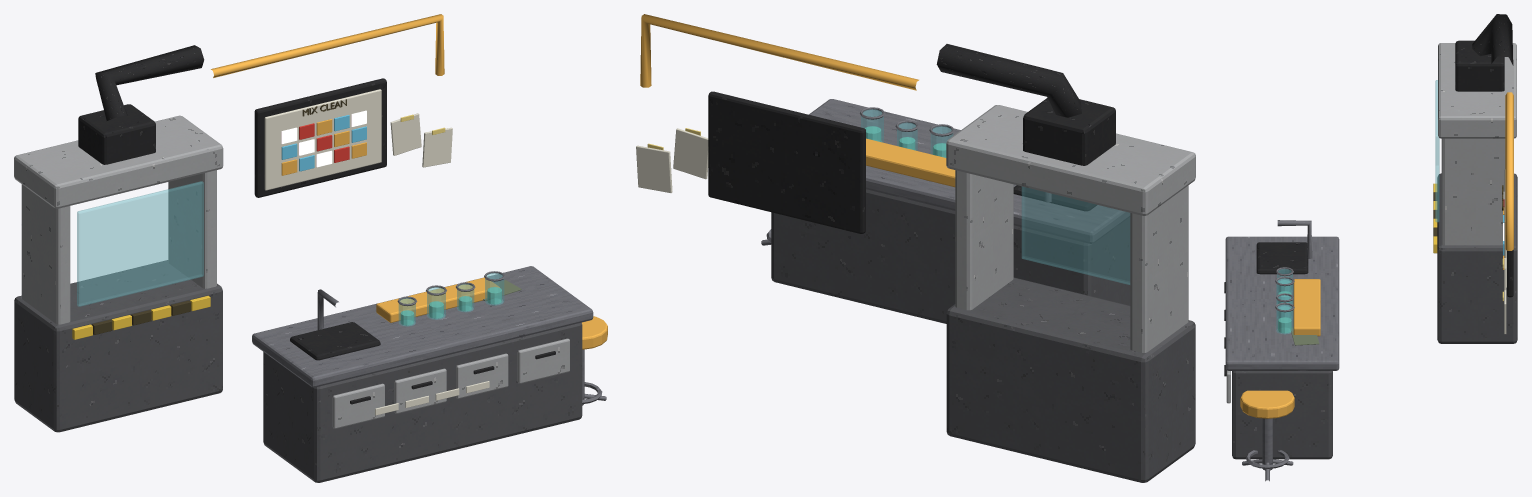
The model's file is department_chemistry_dressing.glb.
3 views of the same model, side by side, from view 1: azimuth 30°, elevation 25°; view 2: azimuth 150°, elevation 25°; view 3: azimuth 270°, elevation 25° (orthographic). The views are drawn at different scales.
Visible parts, largest first — view 1: DEPT_Chemistry__Fume_Hood_Base, DEPT_Chemistry__Island_Body, DEPT_Chemistry__Island_Worktop, DEPT_Chemistry__Fume_Hood_Glass, DEPT_Chemistry__Fume_Hood_Top, DEPT_Chemistry__Safety_Chart_Paper, DEPT_Chemistry__Fume_Hood_Post_Left, DEPT_Chemistry__Fume_Hood_Post_Right, DEPT_Chemistry__Fume_Hood_Extractor, DEPT_Chemistry__Safety_Chart_Back, DEPT_Chemistry__Fume_Exhaust_Duct, DEPT_Chemistry__Rear_Orange_Conduit (+9 smaller); view 2: DEPT_Chemistry__Fume_Hood_Base, DEPT_Chemistry__Island_Body, DEPT_Chemistry__Safety_Chart_Back, DEPT_Chemistry__Fume_Hood_Top, DEPT_Chemistry__Island_Worktop, DEPT_Chemistry__Fume_Hood_Post_Left, DEPT_Chemistry__Fume_Hood_Glass, DEPT_Chemistry__Fume_Hood_Post_Right, DEPT_Chemistry__Fume_Hood_Extractor, DEPT_Chemistry__Fume_Exhaust_Duct, DEPT_Chemistry__Rear_Orange_Conduit, DEPT_Chemistry__Bottle_Rack (+3 smaller); view 3: DEPT_Chemistry__Island_Worktop, DEPT_Chemistry__Fume_Hood_Base, DEPT_Chemistry__Island_Body, DEPT_Chemistry__Fume_Hood_Post_Right, DEPT_Chemistry__Fume_Hood_Top, DEPT_Chemistry__Fume_Hood_Extractor, DEPT_Chemistry__Sink_Basin, DEPT_Chemistry__Bottle_Rack, DEPT_Chemistry__Rear_Orange_Conduit, DEPT_Chemistry__Lab_Stool_Seat, DEPT_Chemistry__Fume_Exhaust_Duct, DEPT_Chemistry__Fume_Hood_Glass (+5 smaller).
Boxes of the visible parts, x1,y1,x2,y2 form: DEPT_Chemistry__Fume_Hood_Base: (14, 260, 222, 432); DEPT_Chemistry__Island_Body: (263, 322, 582, 482); DEPT_Chemistry__Island_Worktop: (252, 266, 593, 387); DEPT_Chemistry__Fume_Hood_Glass: (77, 181, 203, 306); DEPT_Chemistry__Fume_Hood_Top: (14, 115, 223, 208); DEPT_Chemistry__Safety_Chart_Paper: (264, 89, 381, 190); DEPT_Chemistry__Fume_Hood_Post_Left: (21, 184, 70, 324); DEPT_Chemistry__Fume_Hood_Post_Right: (168, 170, 216, 288); DEPT_Chemistry__Fume_Hood_Extractor: (78, 104, 155, 164); DEPT_Chemistry__Safety_Chart_Back: (254, 78, 386, 197); DEPT_Chemistry__Fume_Exhaust_Duct: (95, 45, 204, 120); DEPT_Chemistry__Rear_Orange_Conduit: (211, 14, 444, 77); DEPT_Chemistry__Fume_Hood_Base: (946, 277, 1195, 482); DEPT_Chemistry__Island_Body: (771, 189, 1130, 323); DEPT_Chemistry__Safety_Chart_Back: (708, 91, 865, 233); DEPT_Chemistry__Fume_Hood_Top: (946, 105, 1195, 215); DEPT_Chemistry__Island_Worktop: (809, 99, 1130, 243); DEPT_Chemistry__Fume_Hood_Post_Left: (1130, 185, 1188, 352); DEPT_Chemistry__Fume_Hood_Glass: (1021, 186, 1130, 284); DEPT_Chemistry__Fume_Hood_Post_Right: (955, 170, 1013, 310); DEPT_Chemistry__Fume_Hood_Extractor: (1023, 98, 1115, 165); DEPT_Chemistry__Fume_Exhaust_Duct: (936, 44, 1081, 117); DEPT_Chemistry__Rear_Orange_Conduit: (640, 14, 918, 90); DEPT_Chemistry__Bottle_Rack: (866, 138, 955, 187); DEPT_Chemistry__Island_Worktop: (1225, 236, 1339, 370); DEPT_Chemistry__Fume_Hood_Base: (1437, 173, 1517, 343); DEPT_Chemistry__Island_Body: (1232, 371, 1332, 459); DEPT_Chemistry__Fume_Hood_Post_Right: (1441, 138, 1505, 245); DEPT_Chemistry__Fume_Hood_Top: (1438, 43, 1516, 138); DEPT_Chemistry__Fume_Hood_Extractor: (1455, 40, 1504, 91); DEPT_Chemistry__Sink_Basin: (1256, 242, 1308, 274); DEPT_Chemistry__Bottle_Rack: (1293, 279, 1320, 336); DEPT_Chemistry__Rear_Orange_Conduit: (1505, 92, 1513, 250); DEPT_Chemistry__Lab_Stool_Seat: (1240, 390, 1294, 418); DEPT_Chemistry__Fume_Exhaust_Duct: (1472, 14, 1513, 65); DEPT_Chemistry__Fume_Hood_Glass: (1435, 80, 1439, 222).
Size of the model in its own units: 3.93 by 2.7 by 2.38.
15 materials, 4 textured.
